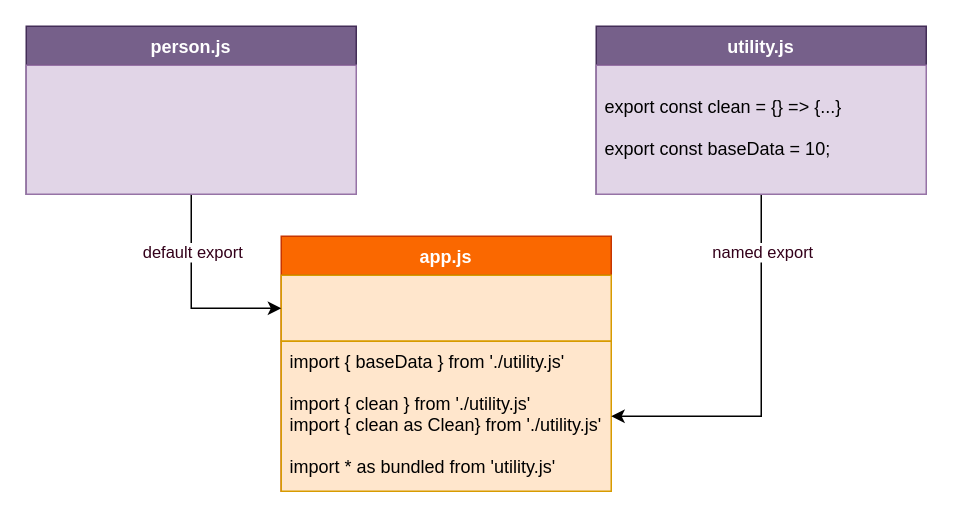
Some shapes in this 953 by 522 pixel diagram are drawn without their labels. Here are the shapes that lost their labels. From the top down, the centre of each, then its label:
At point (190, 129): "const person = { name: 'Hudayfe' } export default person".
At point (445, 307): "import person from './person.js' import prs from './person.js'".
